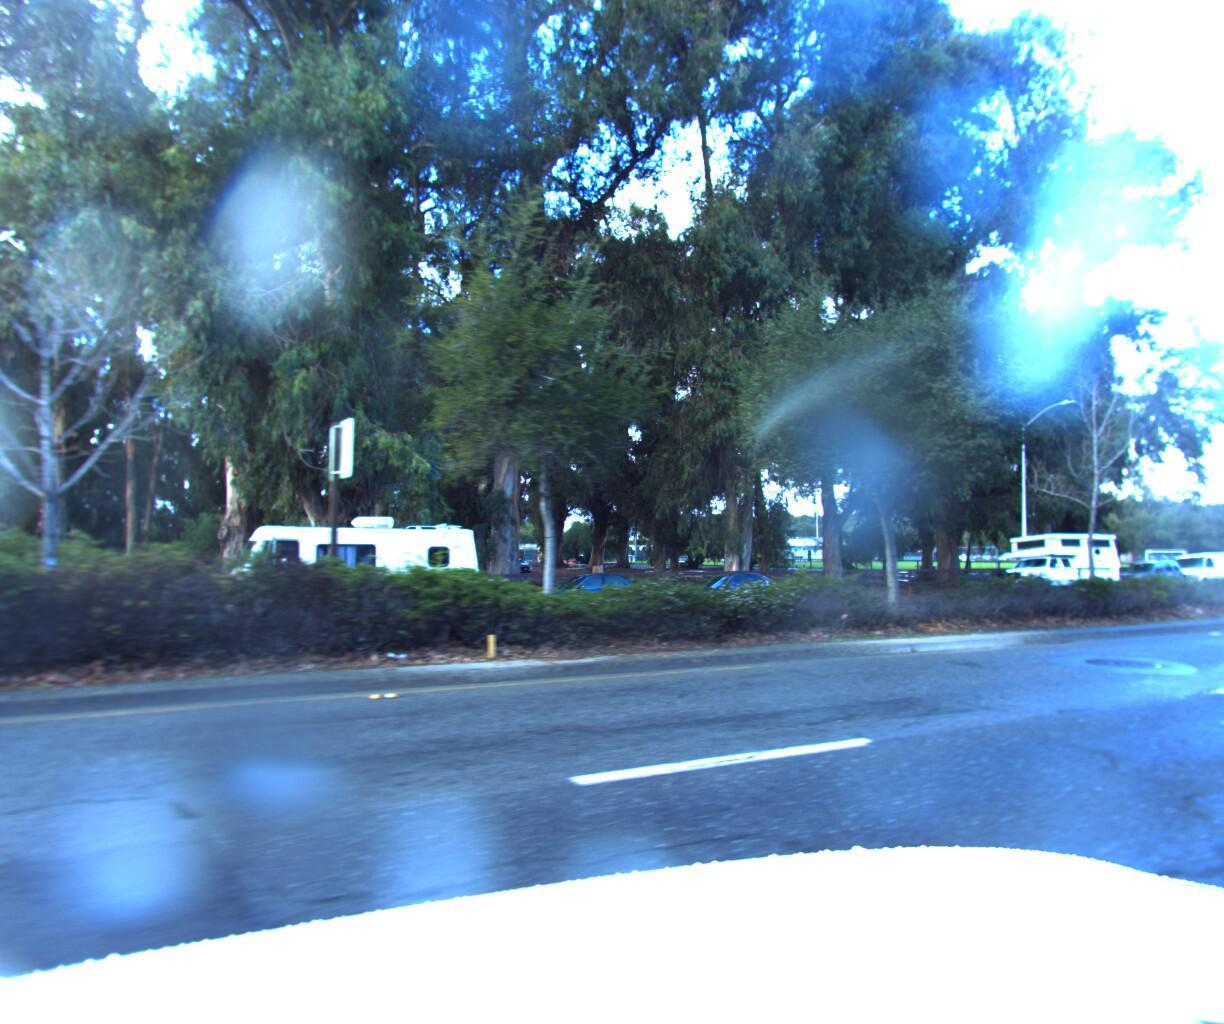car: (502, 575, 660, 628), (657, 575, 792, 628), (1097, 562, 1183, 597), (1151, 556, 1224, 591)
other_vehicle: (193, 515, 494, 647), (966, 534, 1116, 596)
